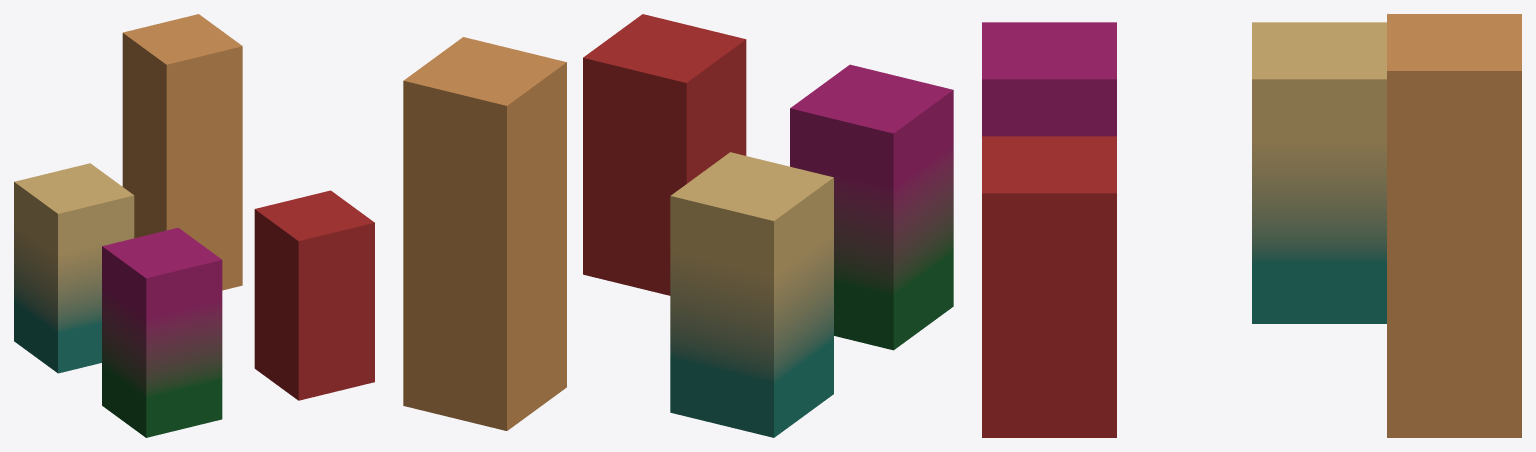
The model's file is Kitchen_Misc_00.fbx.
The picture shows the model from 3 angles, left to right: view 1: azimuth 30°, elevation 25°; view 2: azimuth 150°, elevation 25°; view 3: azimuth 270°, elevation 25°; orthographic projection. The views are drawn at different scales.
Parts seen in each view (by area): view 1: Kitchen_Misc_00; view 2: Kitchen_Misc_00; view 3: Kitchen_Misc_00.
Part boxes in pixels (x1,y1,x2,y2): Kitchen_Misc_00: (14,14,374,437); Kitchen_Misc_00: (403,14,953,437); Kitchen_Misc_00: (982,14,1521,437).
Size of the model in its own units: 15 by 15 by 20.
